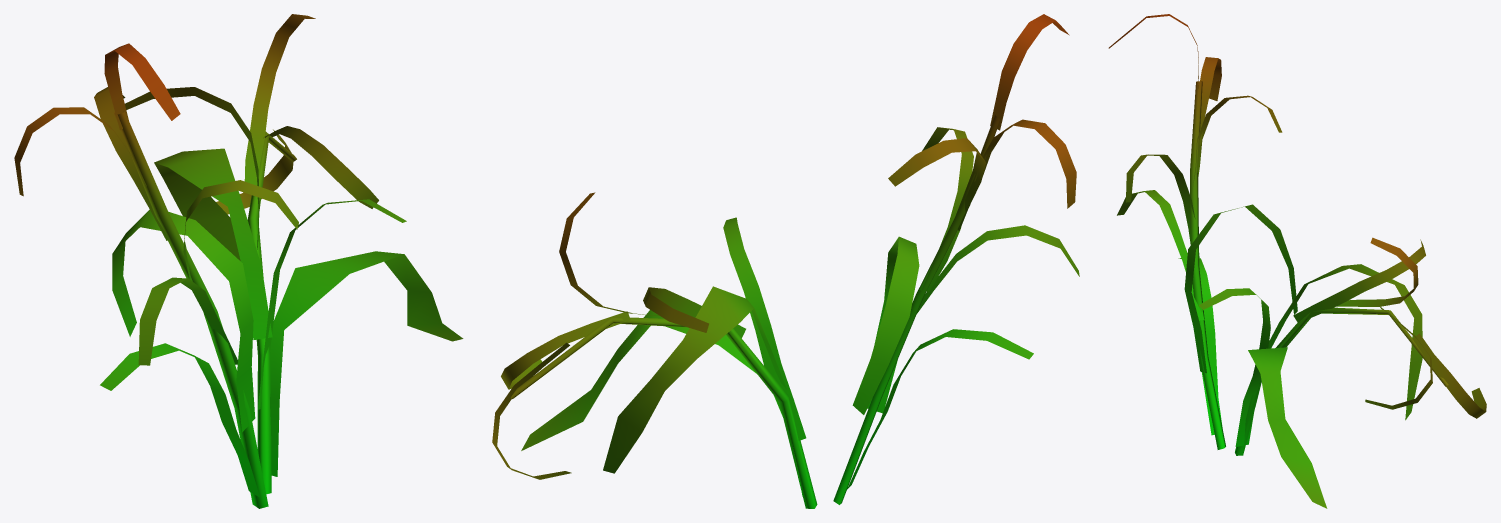
Rendered from Great Brome_LOD1_Var4_tjugaikia.fbx.
3 renders of one model, left to right at view 1: azimuth 30°, elevation 25°; view 2: azimuth 150°, elevation 25°; view 3: azimuth 270°, elevation 25°, orthographic. The views are drawn at different scales.
Visible parts, largest first — view 1: _8bb6_Var4_LOD1; view 2: _8bb6_Var4_LOD1; view 3: _8bb6_Var4_LOD1.
Part boxes in pixels (bbox=[...]): _8bb6_Var4_LOD1: bbox=[14, 14, 463, 508]; _8bb6_Var4_LOD1: bbox=[492, 14, 1079, 508]; _8bb6_Var4_LOD1: bbox=[1108, 14, 1486, 508].
Bounding box in the file's own units: 25.02 × 24.66 × 22.54.
